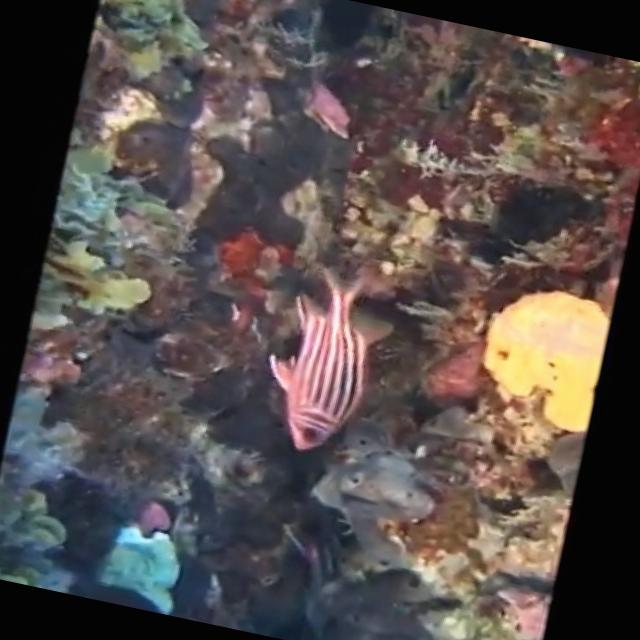Asker Baligi: (250, 256, 390, 460)
